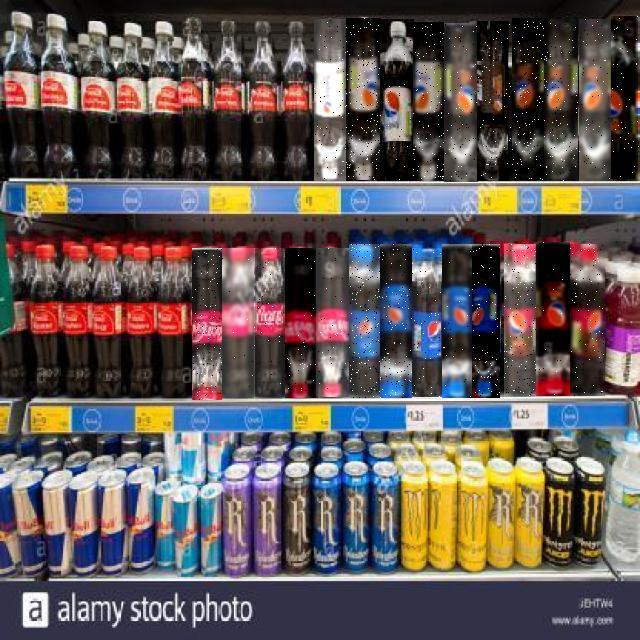Drinks: (346, 18, 380, 180), (380, 19, 414, 181), (512, 18, 546, 180), (545, 19, 579, 181), (579, 19, 613, 181), (569, 244, 605, 396), (478, 21, 512, 181), (444, 23, 478, 182), (536, 242, 570, 396), (314, 19, 346, 181), (504, 244, 538, 396), (222, 248, 255, 398), (285, 248, 318, 398), (413, 22, 444, 181), (380, 244, 412, 398), (316, 248, 349, 397), (254, 248, 286, 398), (349, 244, 380, 398), (442, 244, 472, 398), (612, 16, 640, 179), (192, 248, 222, 400), (412, 248, 442, 398), (472, 244, 500, 398)
